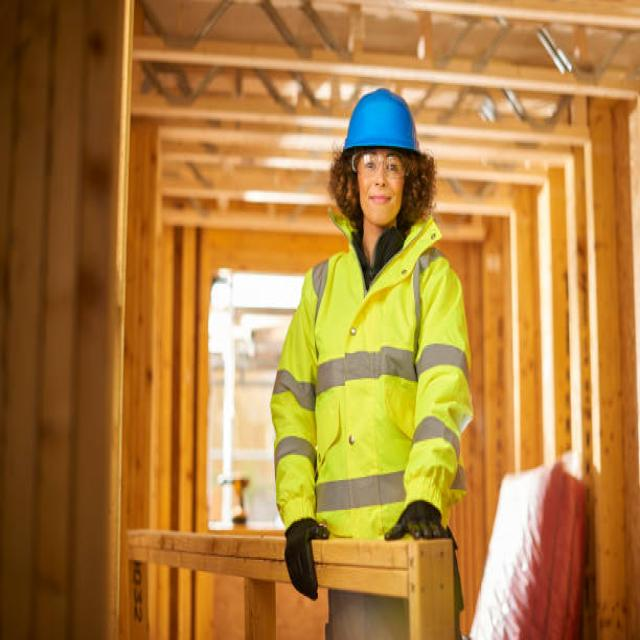gloves: (284, 514, 330, 602), (384, 494, 453, 543)
